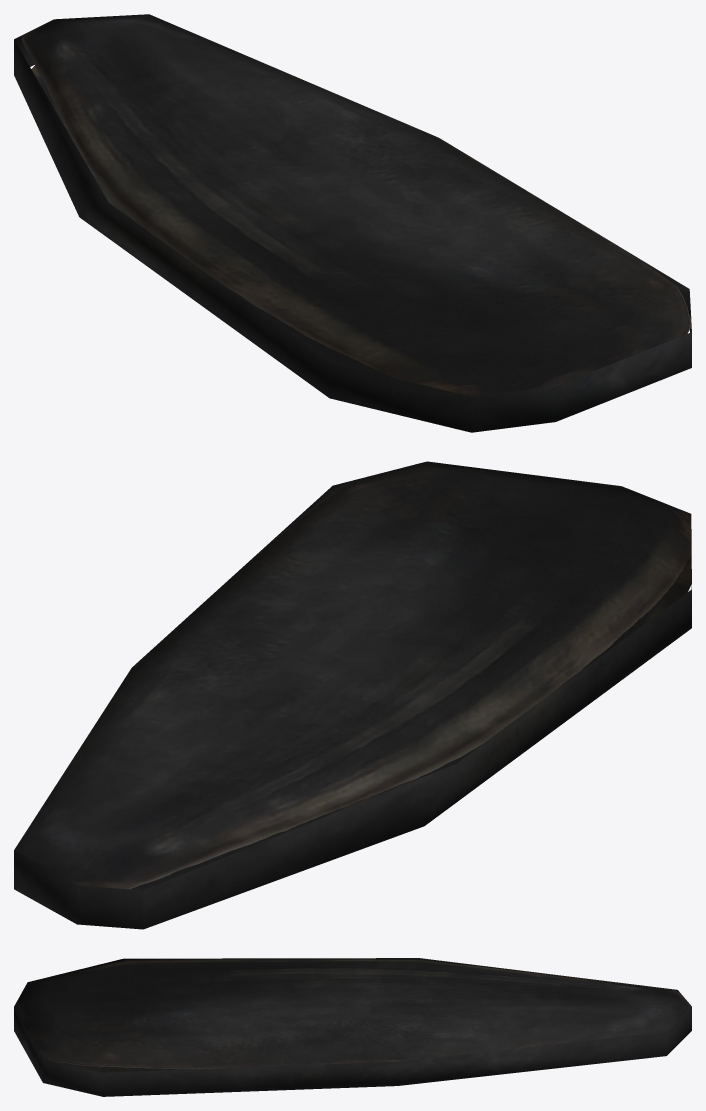
The model's file is Semka.fbx.
3 renders of one model, top to bottom at view 1: azimuth 30°, elevation 25°; view 2: azimuth 150°, elevation 25°; view 3: azimuth 270°, elevation 25°, orthographic. The views are drawn at different scales.
Parts seen in each view (by area): view 1: Cube.030; view 2: Cube.030; view 3: Cube.030.
Boxes of the visible parts, box(x1,y1,x2,y2) form: Cube.030: box(14, 14, 691, 432); Cube.030: box(14, 461, 691, 929); Cube.030: box(14, 958, 691, 1096).
Bounding box in the file's own units: 0.8113 × 0.1359 × 2.03.
